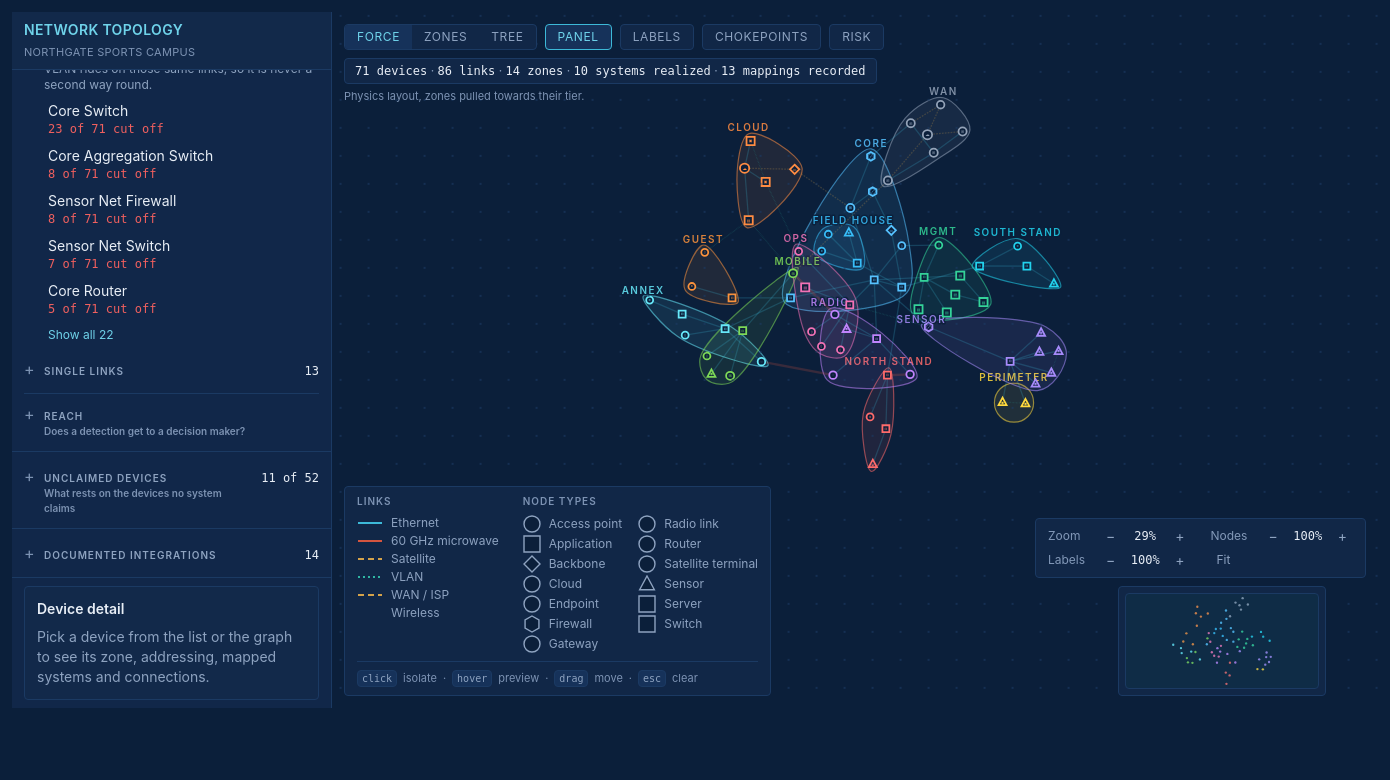
Test: Unclaimed devices › counts the load-bearing devices among the ones no system claims, and says from where
(page scrolled)
What coordinates should you click on to do the following:
click the button that starts with "Unclaimed devices"
I would click on:
 (172, 490)
Its box is [24,460,319,520].
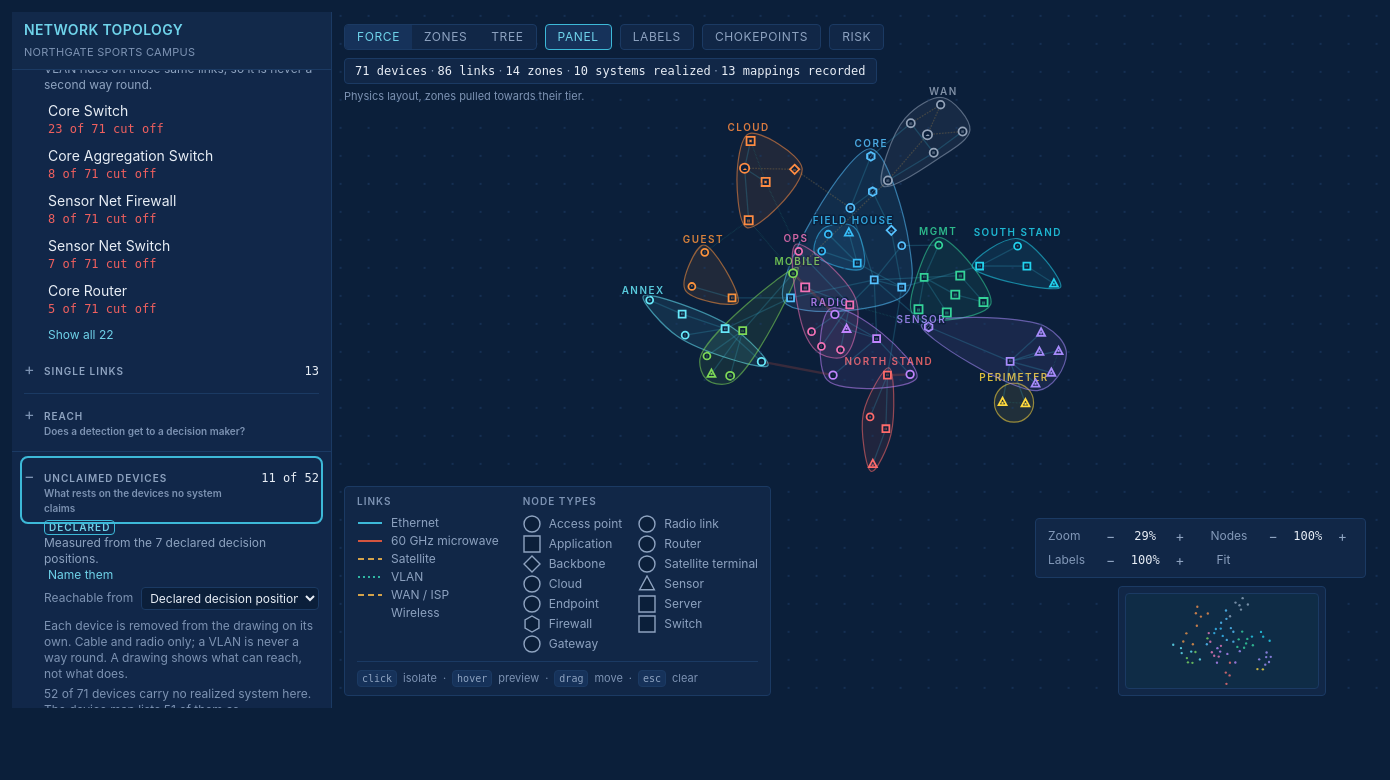
Now the text "DECLARED" is shown, box [44,520,115,535]
Now the text "Measured from the 7 declared decision positions." is shown, box [44,535,266,566]
What coordinates should you click on to do the following:
click the button "Name them"
I would click on:
 (81, 575)
Its box is [44,567,117,583].
(page scrolled)
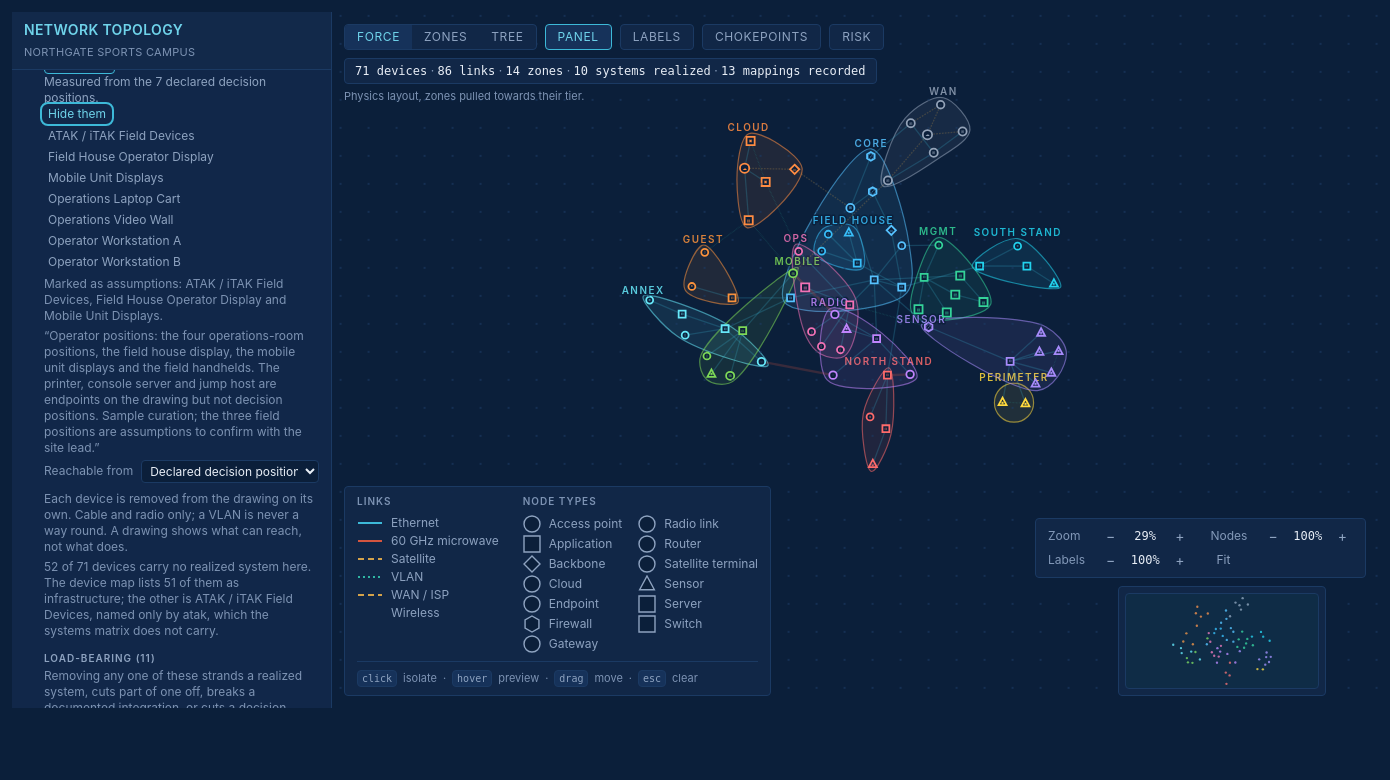
Now the text "Marked as assumptions: " shows "ATAK / iTAK Field Devices, Field House Operator Display and Mobile Unit Displays", box [44,276,286,323]
Now the text "Sample curation" is shown, box [44,328,304,455]
